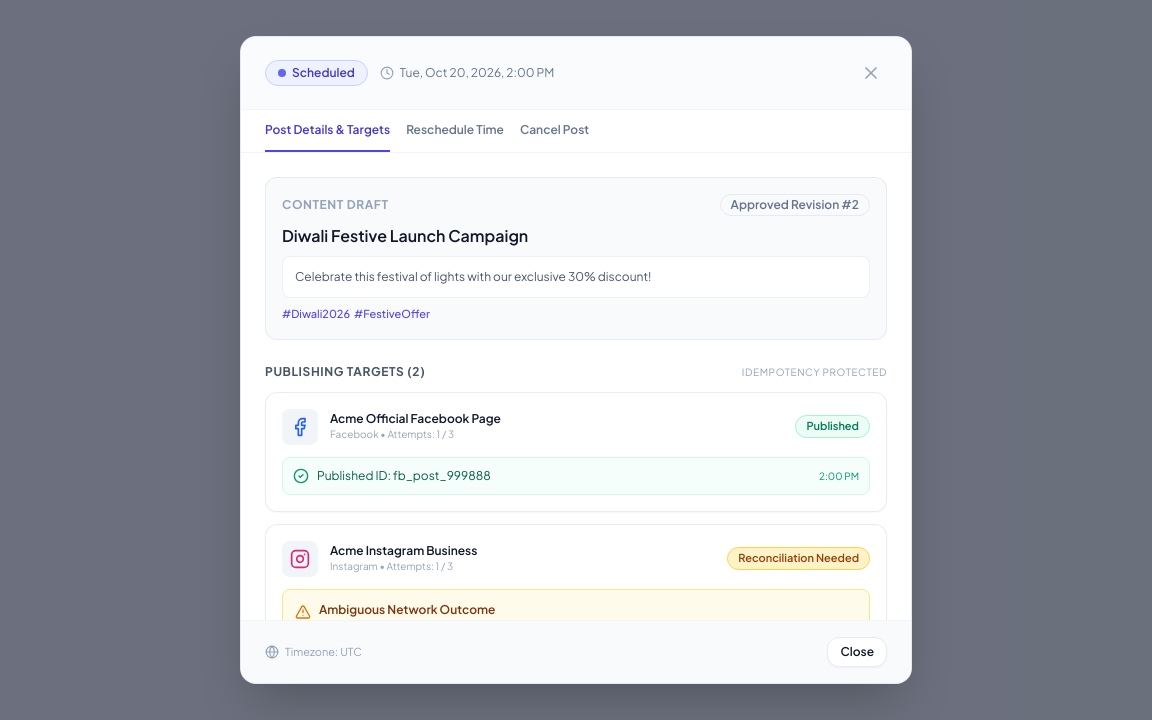
it: PostInspectorModal Component › allows switching to Reschedule Time tab and displays date/time inputs
Click the button "Reschedule Time" at x=455, y=131, box [406, 110, 504, 152]
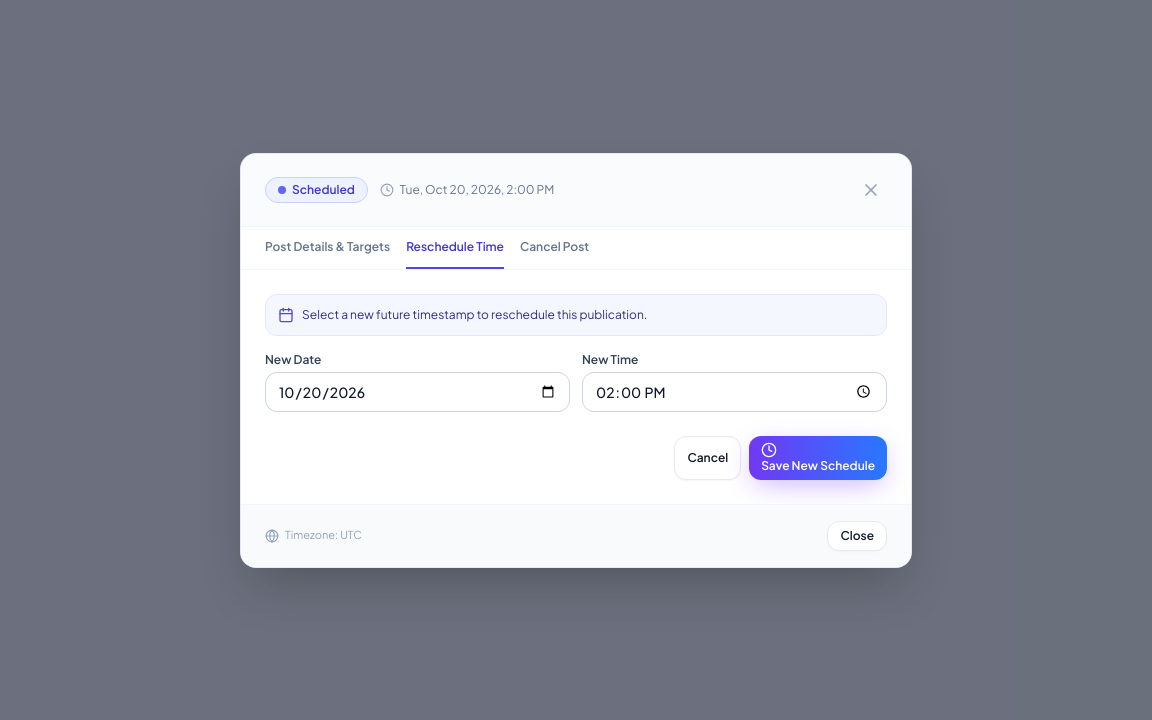
Result: the text "Select a new future timestamp to reschedule" is shown at [302, 306, 647, 322]
Result: the button "Save New Schedule" is shown at [749, 436, 887, 480]
